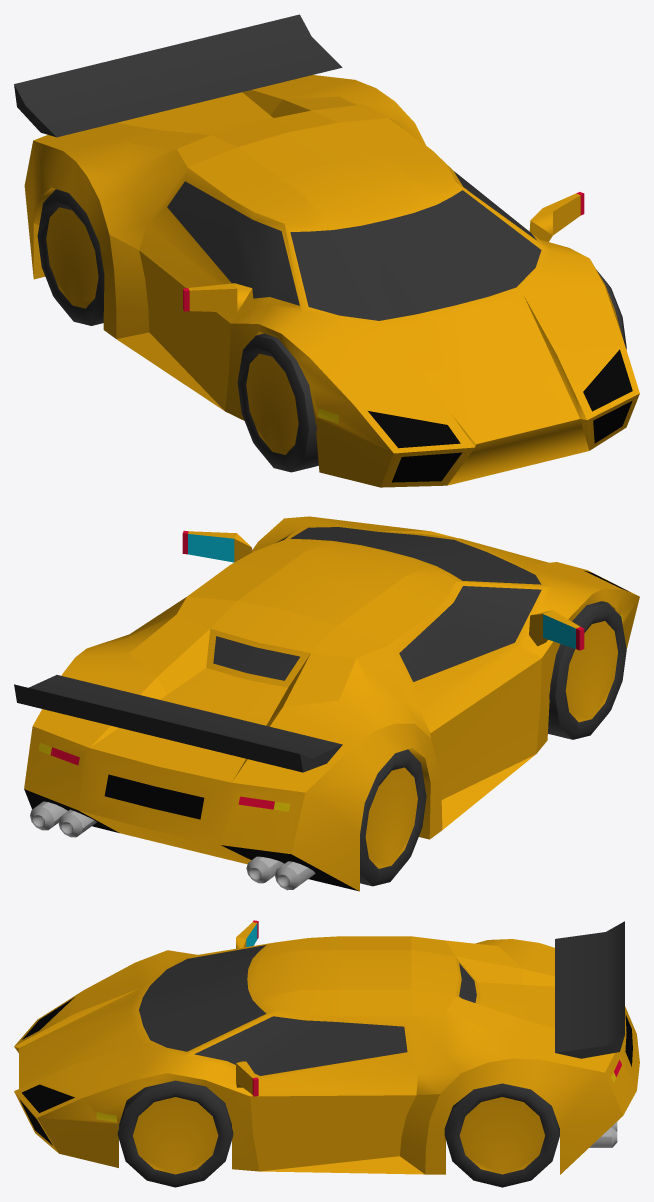
File: car.fbx
The picture shows the model from 3 angles, top to bottom: view 1: azimuth 30°, elevation 25°; view 2: azimuth 150°, elevation 25°; view 3: azimuth 270°, elevation 25°; orthographic projection. The views are drawn at different scales.
Parts seen in each view (by area): view 1: car; view 2: car; view 3: car.
Boxes of the visible parts, left/top/right/bottom form: car: left=14, top=14, right=639, bottom=487; car: left=14, top=516, right=639, bottom=891; car: left=14, top=920, right=639, bottom=1187.
Bounding box in the file's own units: 271 × 124 × 450.
